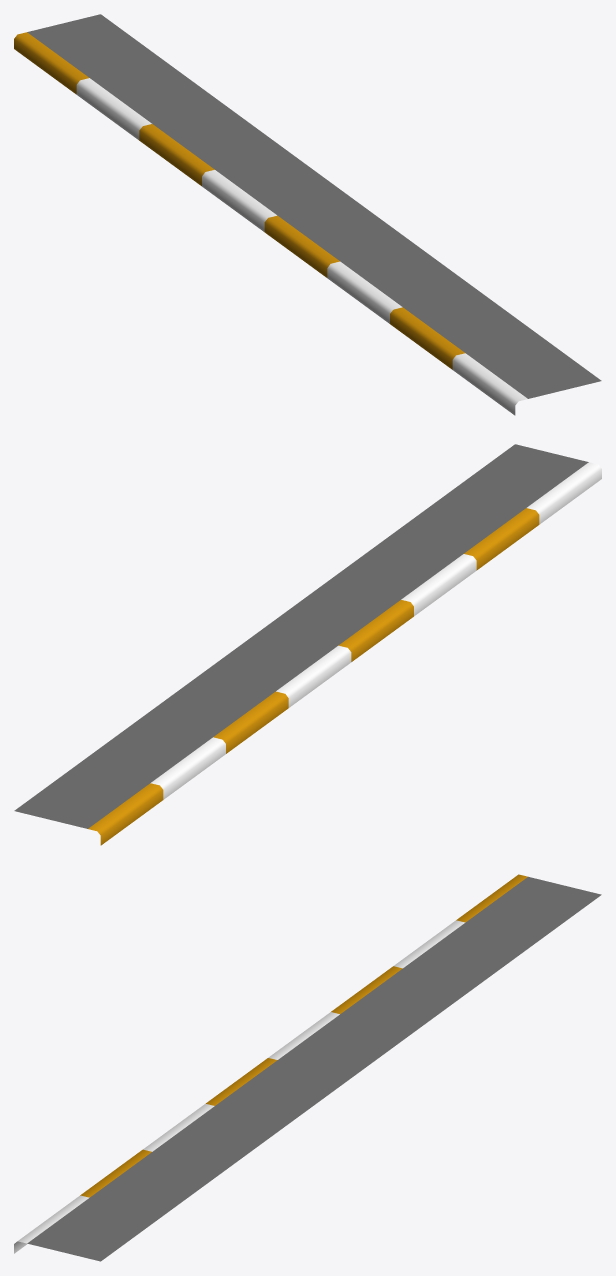
Rendered from Pavement_Left.fbx.
The picture shows the model from 3 angles, top to bottom: view 1: azimuth 30°, elevation 25°; view 2: azimuth 150°, elevation 25°; view 3: azimuth 330°, elevation 25°; orthographic projection.
Parts seen in each view (by area): view 1: Pavement_Left; view 2: Pavement_Left; view 3: Pavement_Left.
Part boxes in pixels (left/top/right/bottom): Pavement_Left: left=14, top=14, right=601, bottom=415; Pavement_Left: left=14, top=444, right=601, bottom=845; Pavement_Left: left=14, top=874, right=601, bottom=1261.
Bounding box in the file's own units: 50 × 500 × 7.5.
